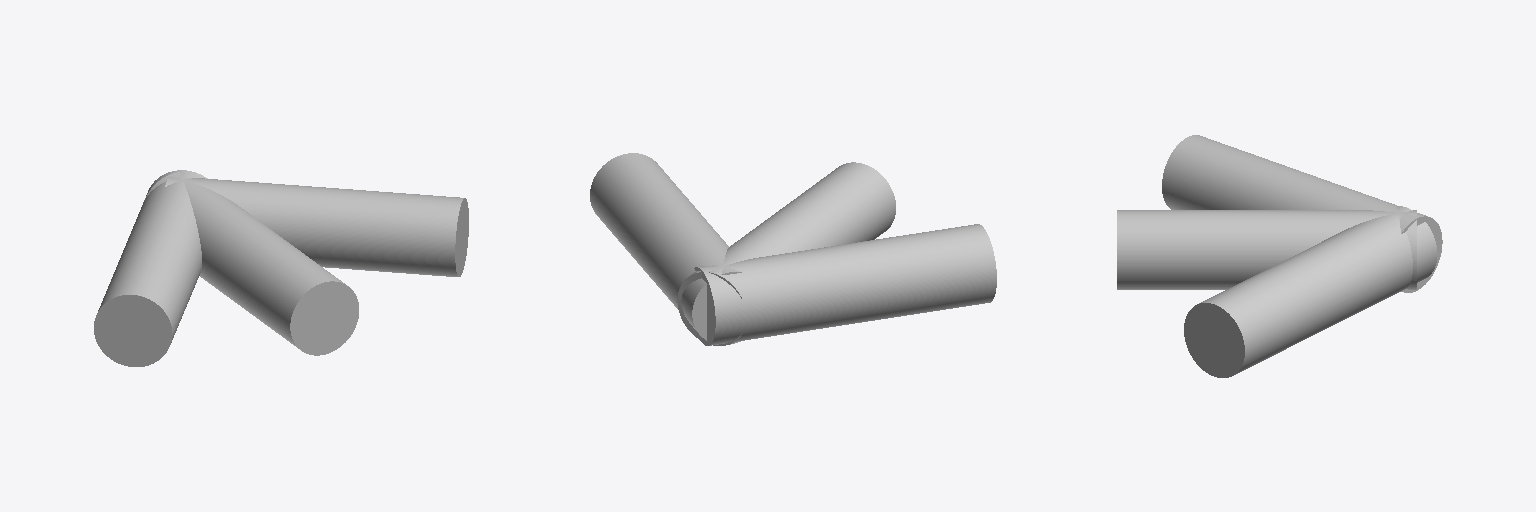
File: arrow.obj
The picture shows the model from 3 angles: view 1: azimuth 30°, elevation 25°; view 2: azimuth 150°, elevation 25°; view 3: azimuth 270°, elevation 25°; orthographic projection.
Parts seen in each view (by area): view 1: Cone001, Cone002, Cone003; view 2: Cone003, Cone001, Cone002; view 3: Cone001, Cone002, Cone003.
Boxes of the visible parts, x1=… form: Cone001: x1=165, y1=177, x2=468, y2=276; Cone002: x1=143, y1=172, x2=358, y2=355; Cone003: x1=94, y1=170, x2=207, y2=366; Cone003: x1=694, y1=224, x2=996, y2=345; Cone001: x1=590, y1=153, x2=741, y2=344; Cone002: x1=677, y1=162, x2=895, y2=345; Cone001: x1=1184, y1=206, x2=1436, y2=377; Cone002: x1=1117, y1=210, x2=1416, y2=289; Cone003: x1=1162, y1=135, x2=1442, y2=292.
Size of the model in its own units: 67.91 by 12 by 48.87.